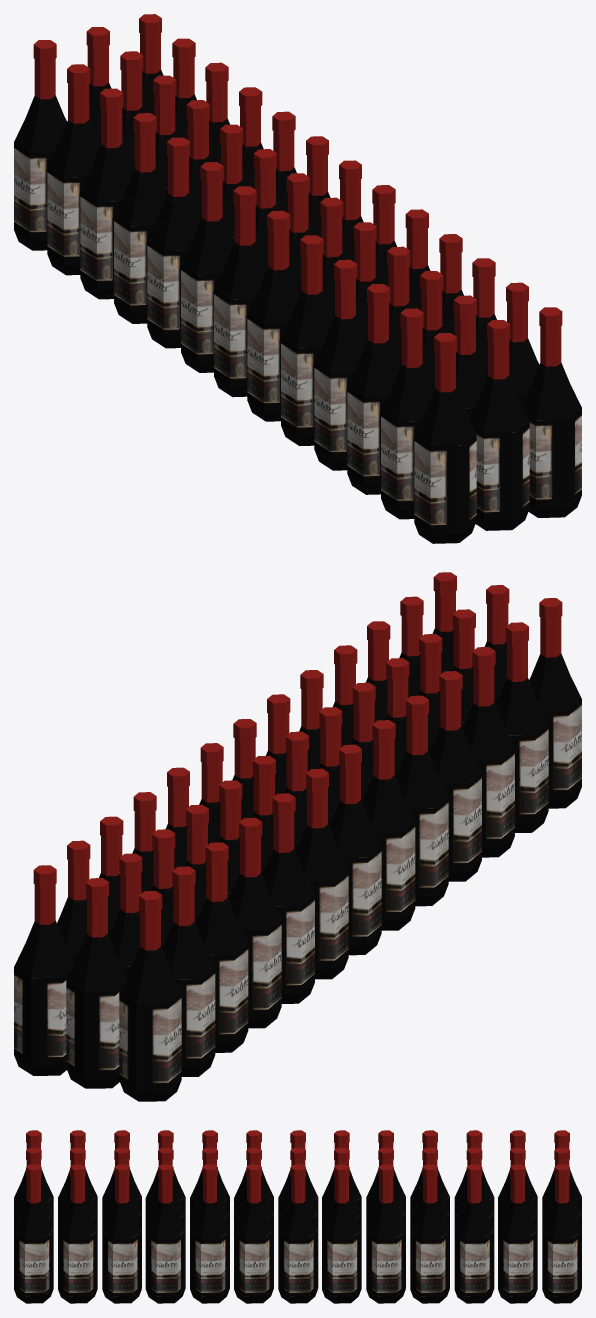
Rendered from wine1pile.fbx.
The picture shows the model from 3 angles, top to bottom: view 1: azimuth 30°, elevation 25°; view 2: azimuth 150°, elevation 25°; view 3: azimuth 270°, elevation 25°; orthographic projection. The views are drawn at different scales.
Parts seen in each view (by area): view 1: WineBottle.024; view 2: WineBottle.024; view 3: WineBottle.024.
Boxes of the visible parts, x1,y1,x2,y2 form: WineBottle.024: (14,14,581,543); WineBottle.024: (14,572,581,1101); WineBottle.024: (14,1130,581,1303).
Size of the model in its own units: 71.78 by 87.62 by 348.
